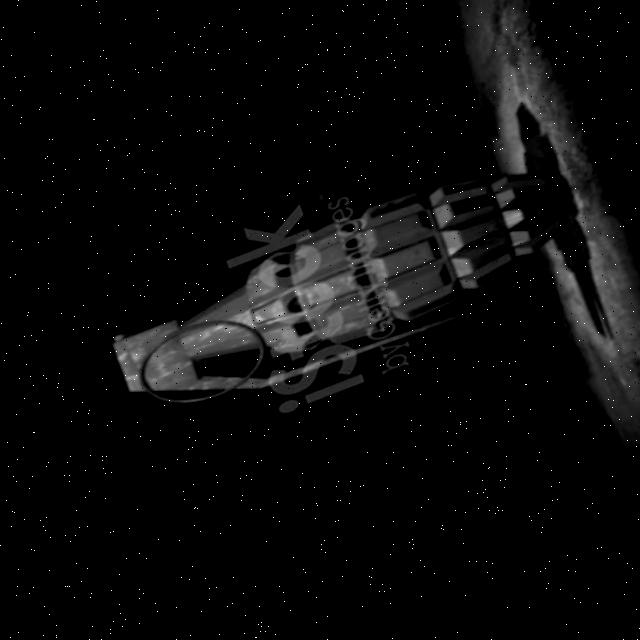grenade: (61, 135, 605, 451)
